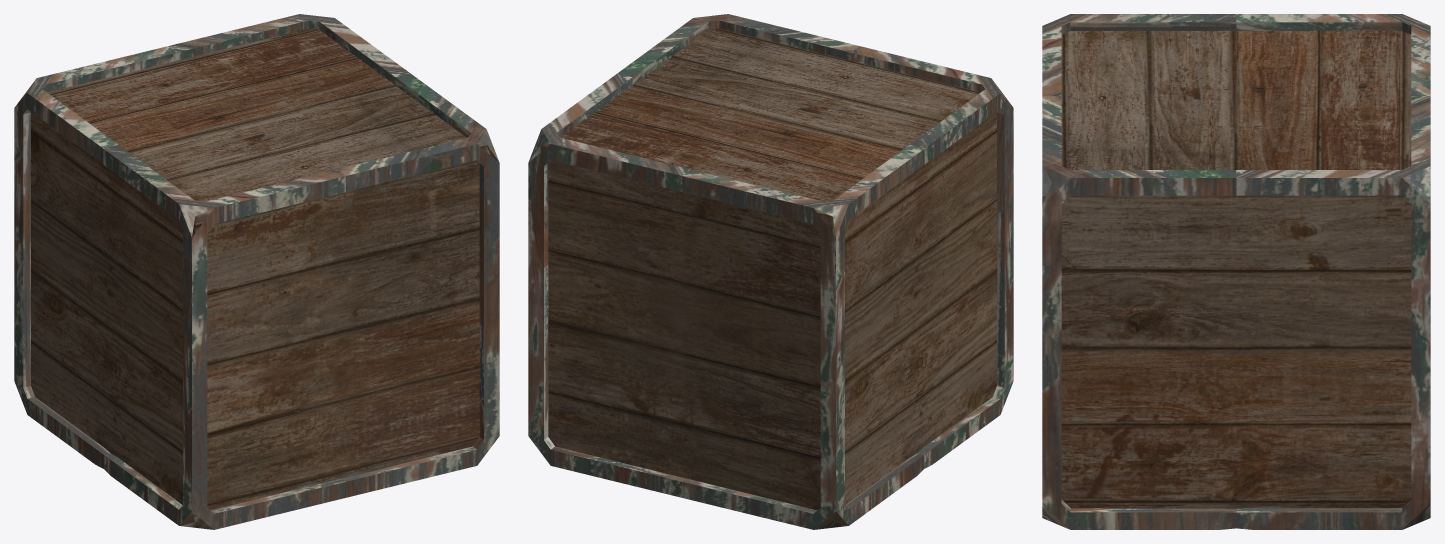
The model's file is crate.glb.
3 renders of one model, left to right at view 1: azimuth 30°, elevation 25°; view 2: azimuth 150°, elevation 25°; view 3: azimuth 270°, elevation 25°, orthographic. The views are drawn at different scales.
Visible parts, largest first — view 1: Cube, Cube.001; view 2: Cube, Cube.001; view 3: Cube, Cube.001.
Boxes of the visible parts, x1=… form: Cube: x1=31, y1=28, x2=487, y2=510; Cube.001: x1=14, y1=14, x2=499, y2=529; Cube: x1=540, y1=28, x2=996, y2=510; Cube.001: x1=528, y1=14, x2=1013, y2=529; Cube: x1=1061, y1=31, x2=1411, y2=509; Cube.001: x1=1042, y1=14, x2=1430, y2=529.
Size of the model in its own units: 2.11 by 2.11 by 2.11.
2 materials, 2 textured.
